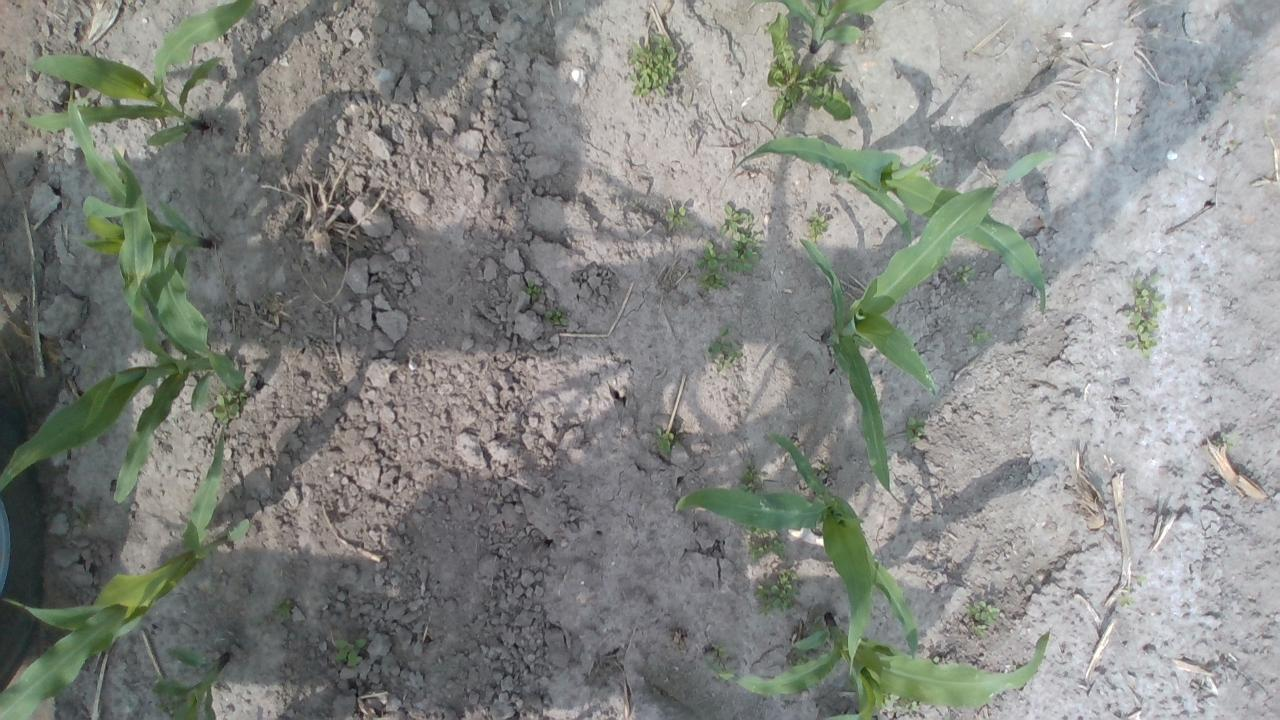Maize: (801, 152, 1058, 509), (0, 145, 214, 514), (0, 423, 251, 720), (676, 433, 917, 676), (724, 137, 1046, 315), (61, 77, 242, 391), (716, 610, 1050, 720), (22, 0, 254, 152), (750, 0, 886, 55), (153, 645, 230, 720)
Weeds: (764, 10, 852, 122), (626, 33, 676, 97), (696, 234, 762, 274), (1126, 276, 1159, 352), (754, 570, 799, 616), (704, 328, 744, 370), (966, 600, 1000, 640), (212, 390, 248, 426), (332, 636, 366, 670), (718, 202, 751, 236), (694, 270, 730, 292), (752, 540, 786, 561), (905, 416, 928, 445), (654, 426, 675, 456), (158, 691, 183, 716), (807, 212, 829, 240), (885, 692, 913, 714), (666, 206, 689, 229), (740, 465, 761, 490), (542, 309, 570, 326), (952, 266, 978, 284), (523, 280, 542, 302), (272, 598, 292, 617), (1222, 72, 1240, 92), (968, 330, 992, 344), (80, 361, 98, 378), (816, 464, 832, 481), (1222, 433, 1238, 449), (744, 525, 769, 535), (920, 159, 937, 173), (710, 644, 727, 657), (1118, 594, 1136, 606), (78, 511, 88, 529), (794, 655, 809, 665), (1136, 573, 1146, 586)
